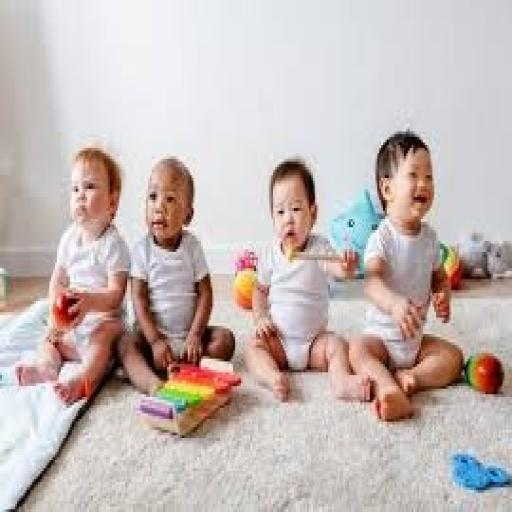baby: (349, 132, 462, 421), (245, 159, 371, 402), (14, 148, 130, 405), (118, 157, 235, 394)
